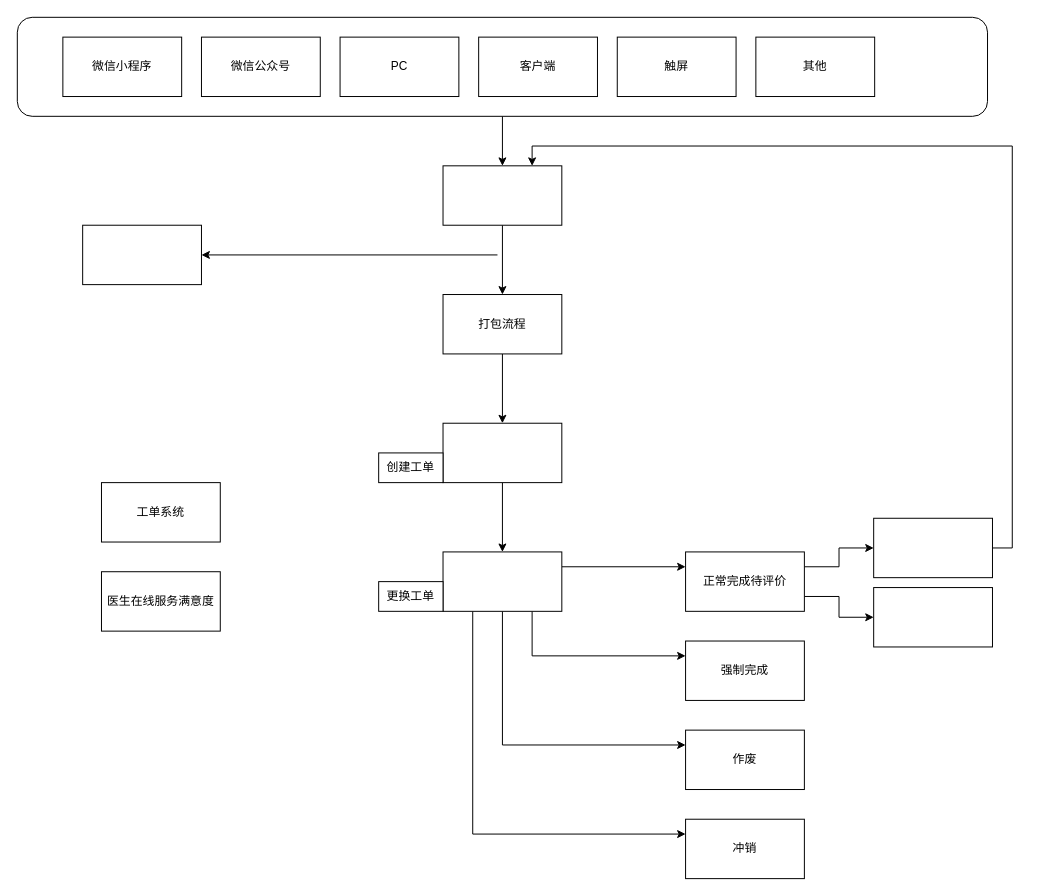
Some shapes in this 1038 by 896 pixel diagram are drawn without their labels. The shapes that lost their labels are listed below. From the top down, each one's box as (x1, y1, x2, y2) in pixels, then its label:
(16, 16, 988, 116): 来源
(442, 165, 562, 225): 限流
(82, 224, 201, 285): 干预任务
(442, 422, 562, 483): 待分配
(873, 517, 992, 578): 未解决
(442, 551, 562, 611): 待处理
(873, 587, 992, 647): 已解决
